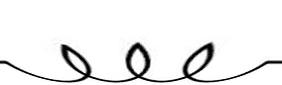inductor: (0, 38, 269, 80)
